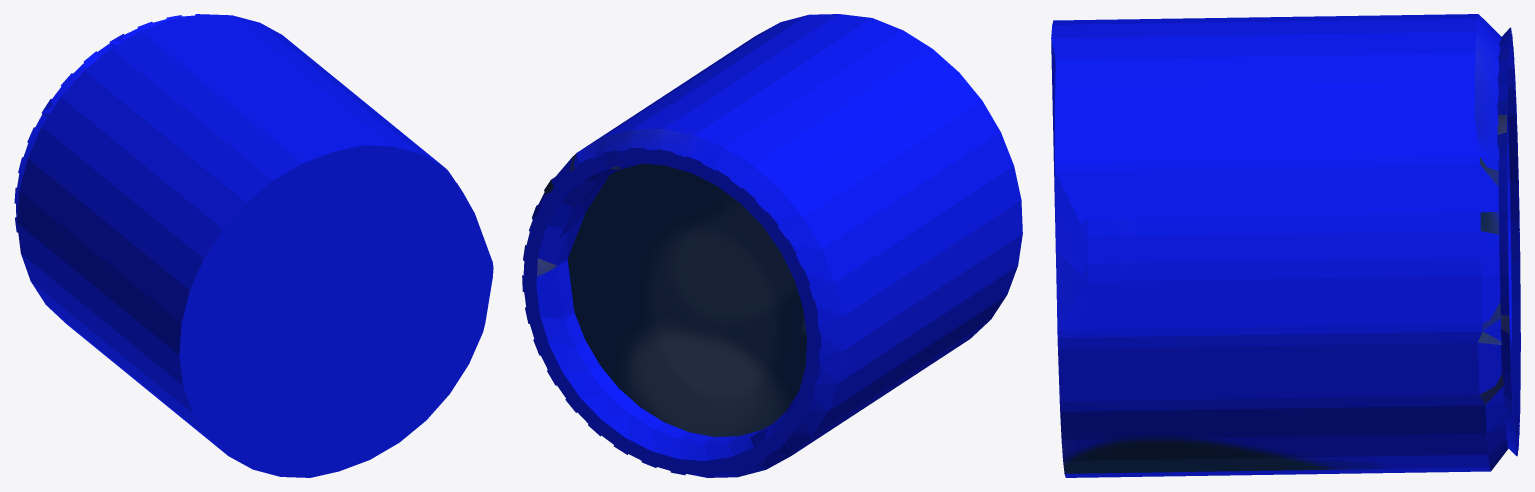
Rendered from rocketColoredP4glb.glb.
The picture shows the model from 3 angles, left to right: view 1: azimuth 30°, elevation 25°; view 2: azimuth 150°, elevation 25°; view 3: azimuth 270°, elevation 25°; orthographic projection. The views are drawn at different scales.
Visible parts, largest first — view 1: Cylinder.002; view 2: Cylinder.002; view 3: Cylinder.002.
Boxes of the visible parts, left/top/right/bottom form: Cylinder.002: left=14, top=14, right=493, bottom=477; Cylinder.002: left=522, top=14, right=1022, bottom=477; Cylinder.002: left=1051, top=14, right=1520, bottom=477.
Size of the model in its own units: 1.24 by 1.25 by 1.25.
1 material, 1 textured.
